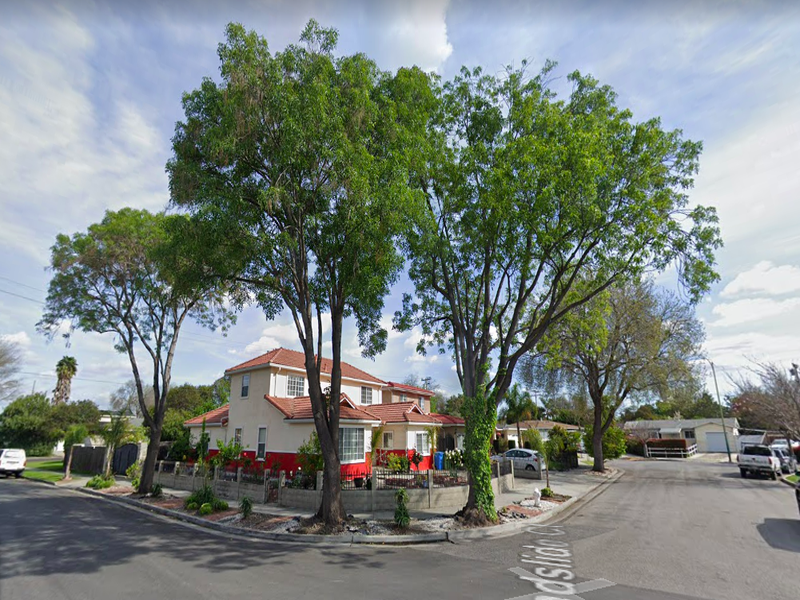tree: (391, 59, 699, 530), (166, 18, 444, 530), (34, 207, 243, 501), (523, 273, 712, 476)
